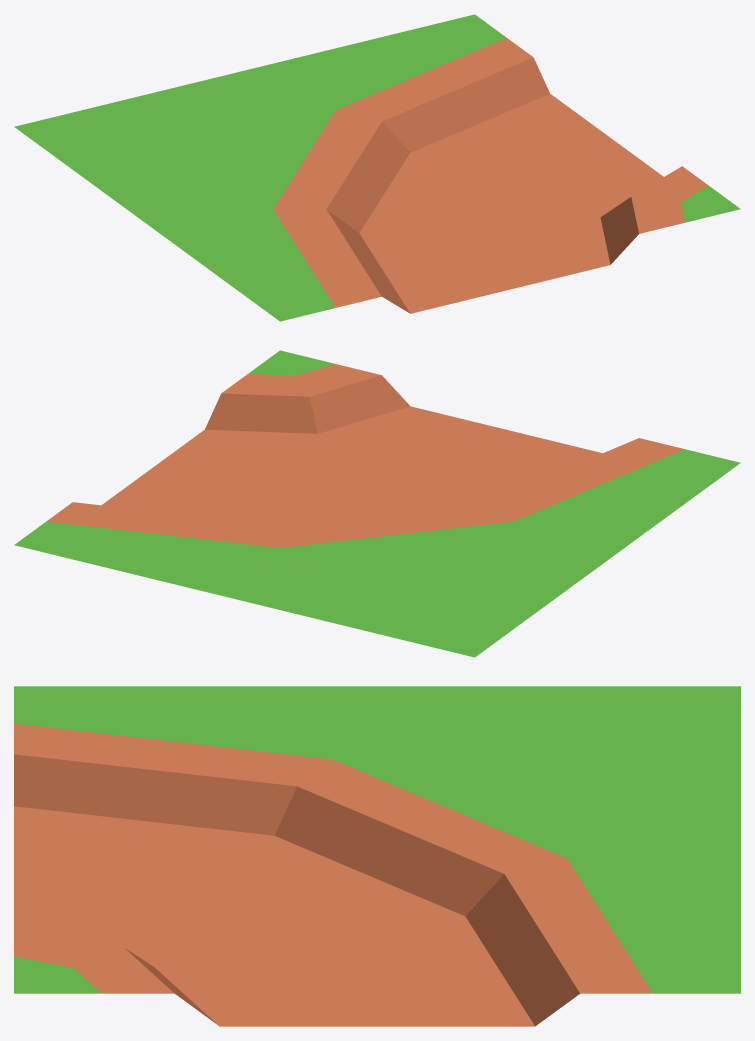
File: ground_pathBend.glb
3 views of the same model, one above another, from view 1: azimuth 30°, elevation 25°; view 2: azimuth 150°, elevation 25°; view 3: azimuth 270°, elevation 25° (orthographic). The views are drawn at different scales.
Parts seen in each view (by area): view 1: ground_pathBend; view 2: ground_pathBend; view 3: ground_pathBend.
Boxes of the visible parts, left/top/right/bottom form: ground_pathBend: left=14, top=14, right=740, bottom=321; ground_pathBend: left=14, top=350, right=740, bottom=657; ground_pathBend: left=14, top=686, right=740, bottom=1026.
Bounding box in the file's own units: 1 × 0.05 × 1.
